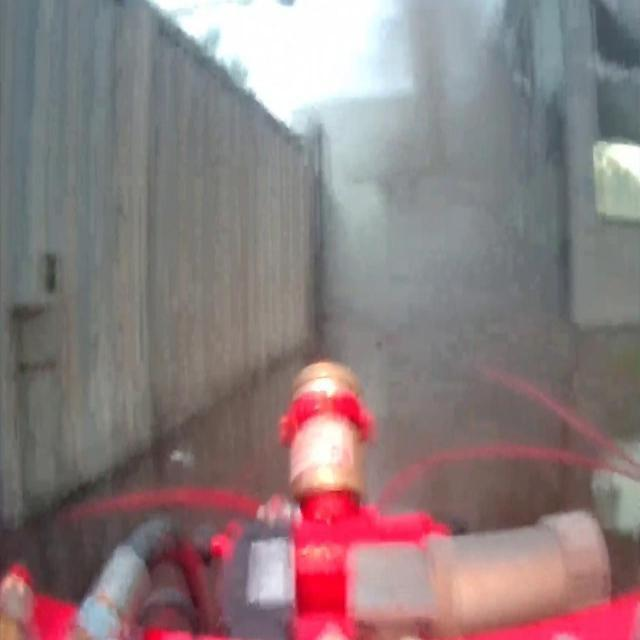Fire: (603, 142, 640, 184)
Smoke: (342, 0, 532, 380)
